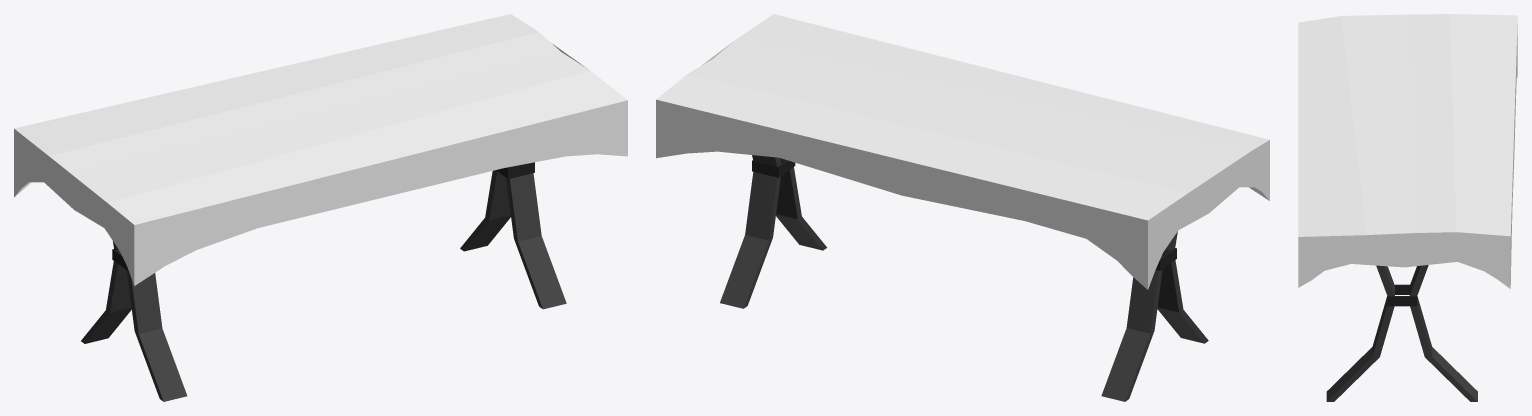
Rendered from tableclothcover01.gltf.
The picture shows the model from 3 angles, left to right: view 1: azimuth 30°, elevation 25°; view 2: azimuth 150°, elevation 25°; view 3: azimuth 270°, elevation 25°; orthographic projection. The views are drawn at different scales.
Parts seen in each view (by area): view 1: Cube.001; view 2: Cube.001; view 3: Cube.001.
Part boxes in pixels (x1=…): Cube.001: x1=14, y1=14, x2=627, y2=401; Cube.001: x1=656, y1=14, x2=1269, y2=401; Cube.001: x1=1298, y1=14, x2=1517, y2=401.
Size of the model in its own units: 2.1 by 0.8403 by 0.8837.
Materials: 1 (1 with a texture image).
